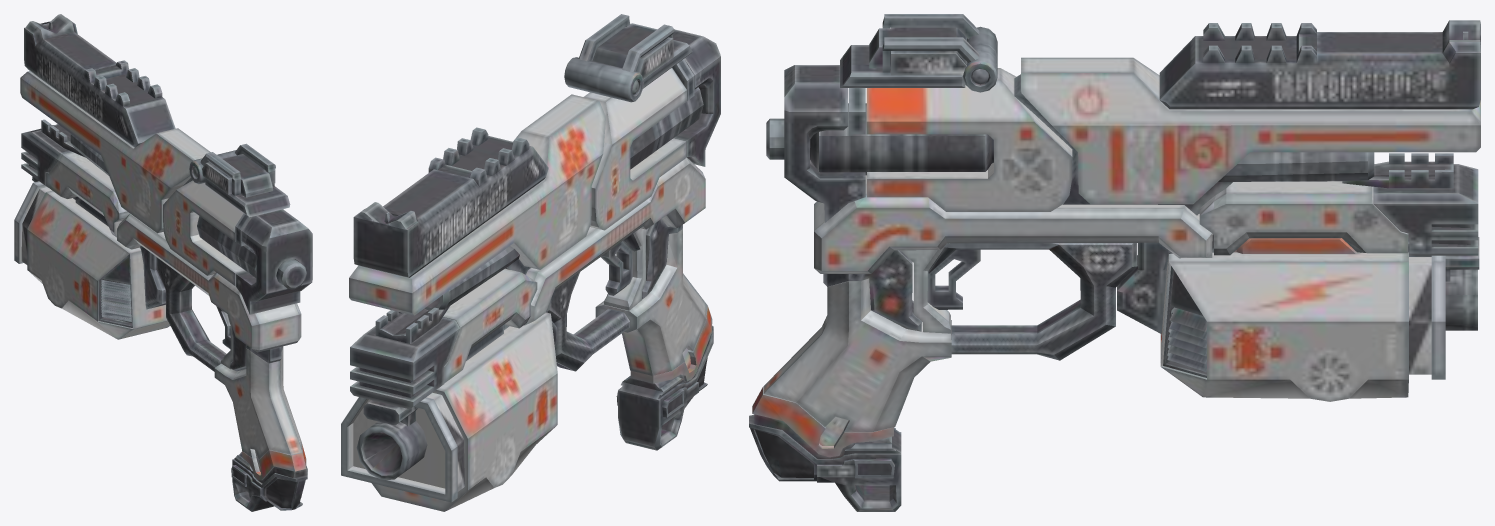
File: pistol.glb
The picture shows the model from 3 angles, left to right: view 1: azimuth 30°, elevation 25°; view 2: azimuth 150°, elevation 25°; view 3: azimuth 270°, elevation 25°; orthographic projection. The views are drawn at different scales.
Parts seen in each view (by area): view 1: gun_low_02 - Defaultred_0; view 2: gun_low_02 - Defaultred_0; view 3: gun_low_02 - Defaultred_0.
Boxes of the visible parts, bbox=[...] form: gun_low_02 - Defaultred_0: bbox=[14, 14, 312, 511]; gun_low_02 - Defaultred_0: bbox=[341, 14, 720, 511]; gun_low_02 - Defaultred_0: bbox=[749, 14, 1480, 511].
Bounding box in the file's own units: 0.0979 × 0.3582 × 0.5.
Materials: 1 (1 with a texture image).
